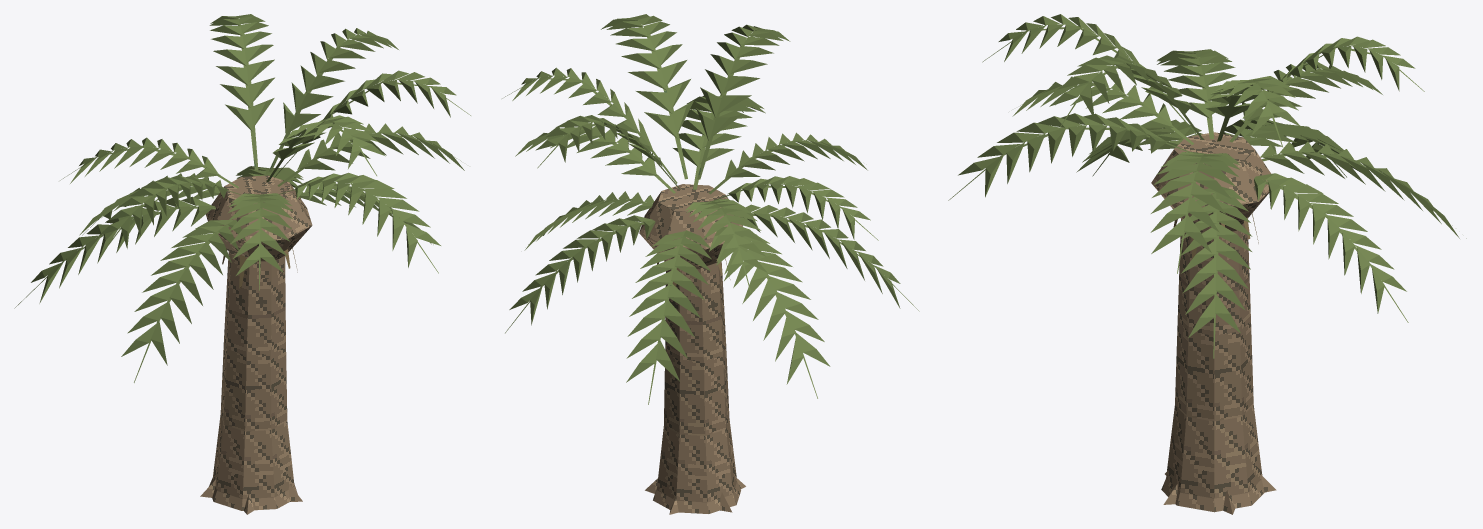
File: canary-date.glb
3 views of the same model, side by side, from view 1: azimuth 30°, elevation 25°; view 2: azimuth 150°, elevation 25°; view 3: azimuth 270°, elevation 25° (orthographic). The views are drawn at different scales.
Visible parts, largest first — view 1: crown_canary-date, trunk_canary-date; view 2: crown_canary-date, trunk_canary-date; view 3: crown_canary-date, trunk_canary-date.
Part boxes in pixels (x1=…): crown_canary-date: x1=14, y1=14, x2=470, y2=382; trunk_canary-date: x1=200, y1=175, x2=312, y2=514; crown_canary-date: x1=502, y1=14, x2=919, y2=404; trunk_canary-date: x1=639, y1=184, x2=745, y2=514; crown_canary-date: x1=948, y1=14, x2=1466, y2=358; trunk_canary-date: x1=1151, y1=132, x2=1276, y2=514.
Size of the model in its own units: 8.73 by 9.2 by 9.01.
2 materials, 2 textured.
